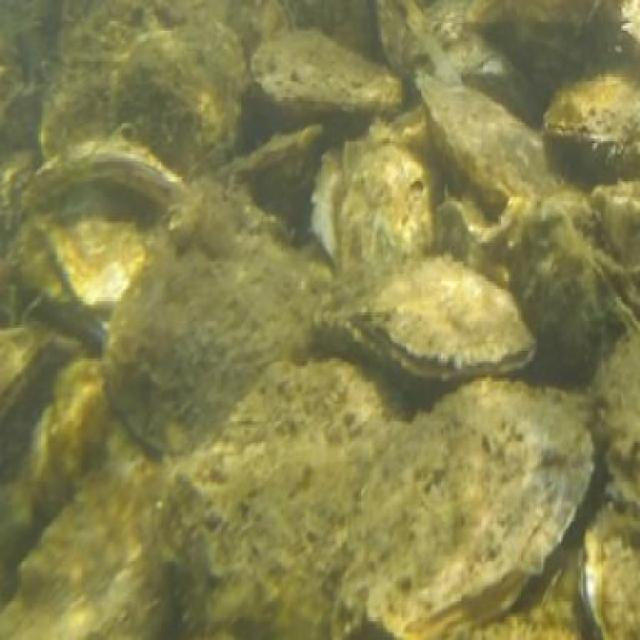Oyster-Closed: (359, 254, 538, 379), (581, 510, 640, 640), (586, 247, 640, 332)
Oyster-Indeterminate: (339, 377, 594, 640), (158, 365, 388, 640), (108, 177, 333, 454), (0, 437, 173, 640), (476, 193, 601, 382), (418, 80, 567, 210), (112, 17, 240, 167), (44, 0, 157, 156), (425, 0, 551, 137), (462, 0, 632, 101), (33, 359, 124, 519), (332, 145, 437, 270), (254, 29, 396, 118), (39, 203, 154, 309), (32, 137, 175, 217), (546, 65, 640, 176), (220, 128, 319, 232), (380, 0, 461, 85), (603, 330, 640, 513), (0, 312, 58, 415), (435, 197, 486, 262)
